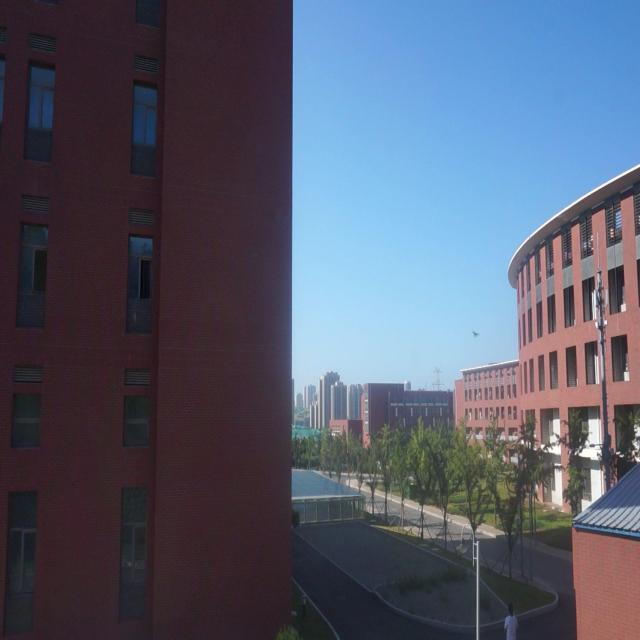drone: (471, 328, 481, 340)
